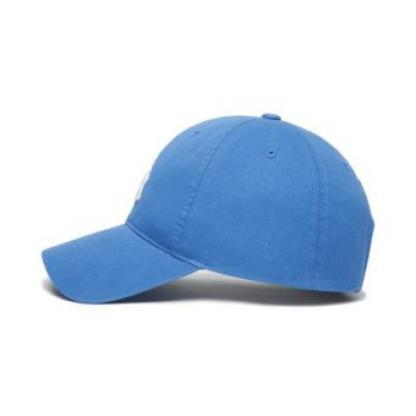cap: (26, 99, 390, 319)
